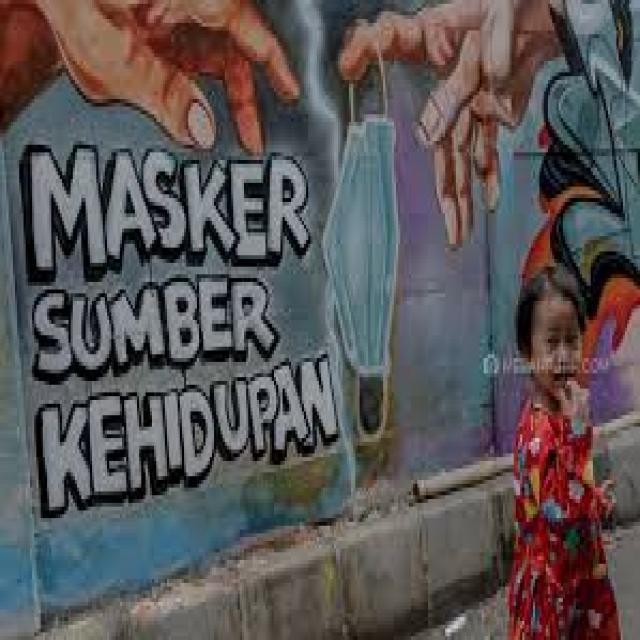-: (325, 0, 640, 451), (20, 139, 342, 519), (0, 0, 304, 158)
